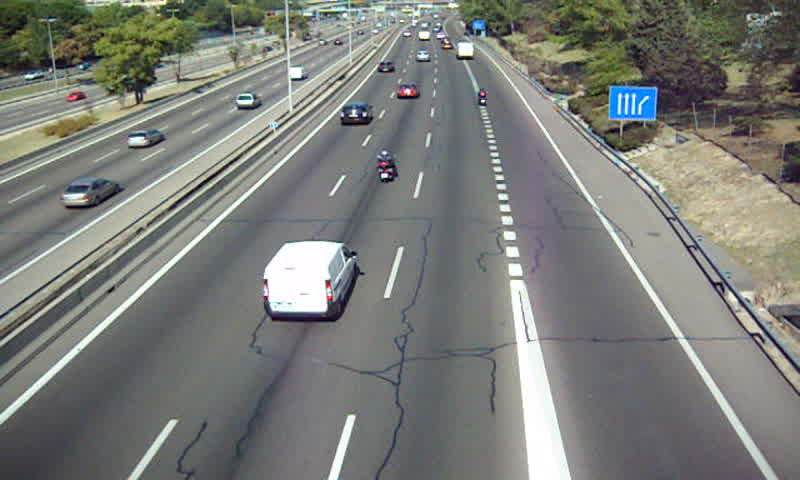car: (338, 103, 374, 126), (395, 84, 418, 99), (376, 60, 394, 74), (414, 49, 430, 63)
motorcycle: (375, 149, 395, 185), (477, 87, 487, 108)
van: (261, 242, 356, 321), (457, 41, 475, 60)
